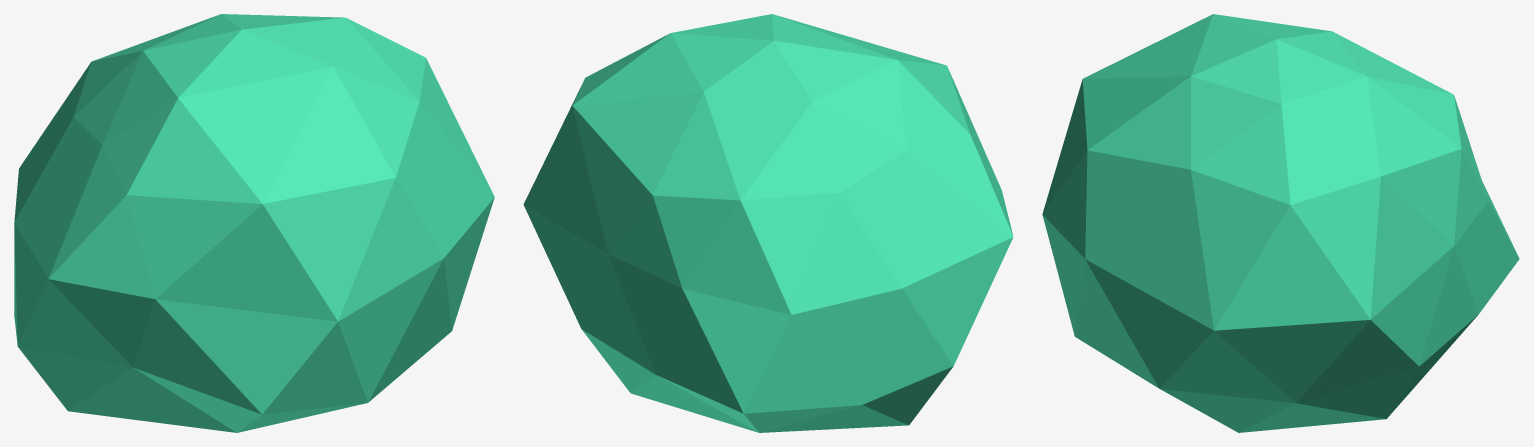
Rendered from FlowerPThree.fbx.
3 renders of one model, left to right at view 1: azimuth 30°, elevation 25°; view 2: azimuth 150°, elevation 25°; view 3: azimuth 270°, elevation 25°, orthographic. The views are drawn at different scales.
Visible parts, largest first — view 1: Flower Phase Three; view 2: Flower Phase Three; view 3: Flower Phase Three.
Part boxes in pixels (<box>): Flower Phase Three: <box>14,14,494,432</box>; Flower Phase Three: <box>523,14,1013,432</box>; Flower Phase Three: <box>1042,14,1519,432</box>.
Bounding box in the file's own units: 270 × 209 × 264.
